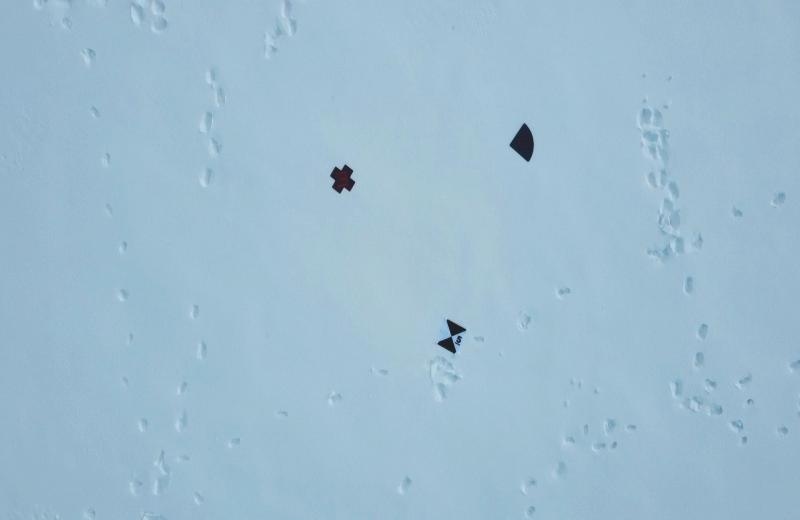Cross: (327, 158, 357, 198)
Quarter Circle: (509, 119, 538, 168)
